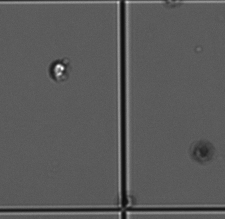Dead Cell: (192, 138, 215, 164)
Living Cell: (48, 59, 71, 85)
